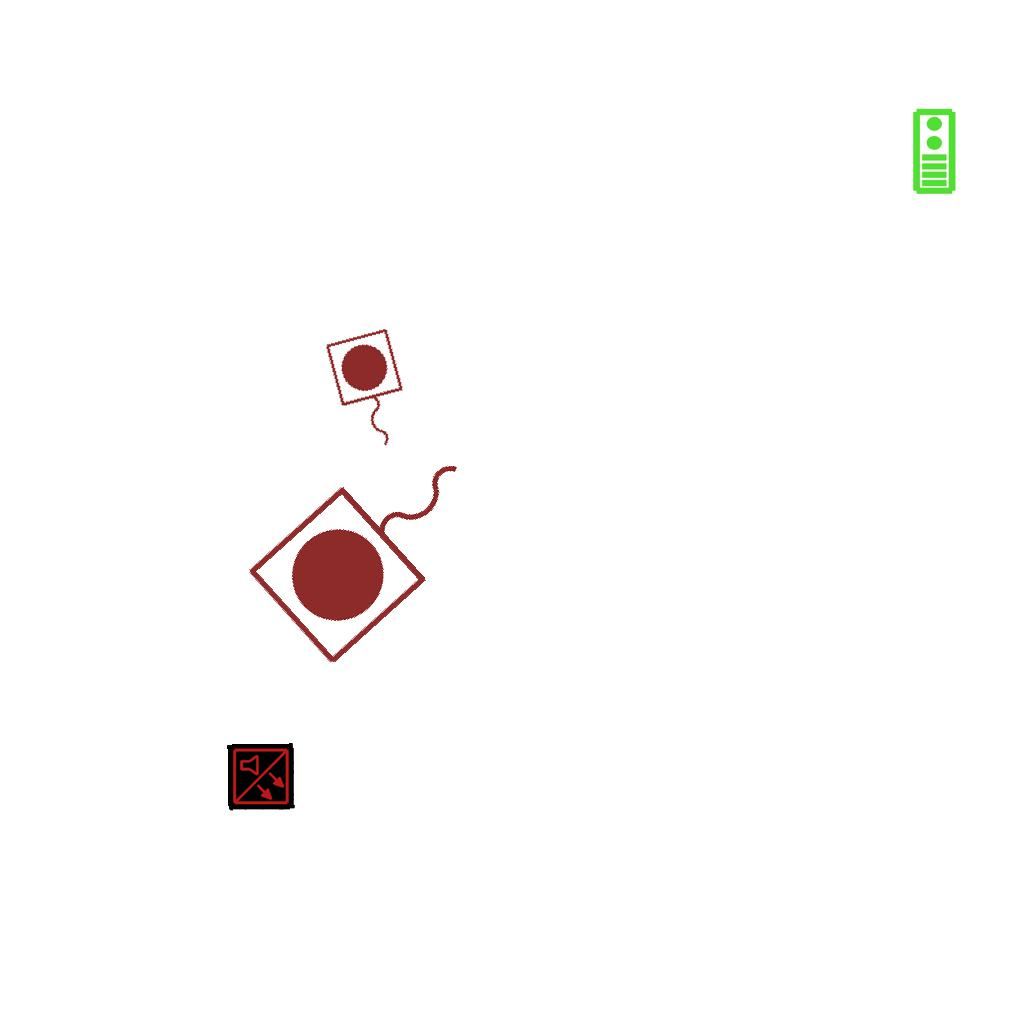Gegensprechanlage_mit_Video: (910, 107, 957, 195)
OKW_Multisensormelder_(Kombination_optischer_Rauch-Kahlenmonoxid_Waerme-Melder): (227, 743, 295, 811)
Zugtaster: (237, 407, 515, 679), (319, 323, 421, 461)
